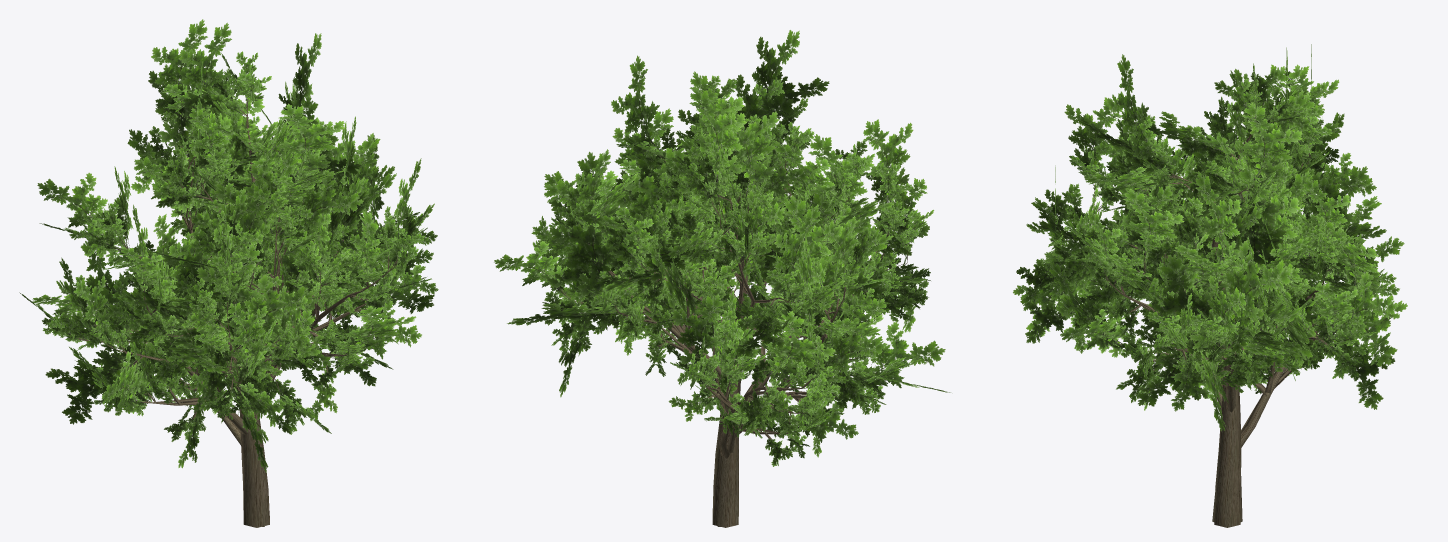
File: tree_maple_green.glb
3 views of the same model, side by side, from view 1: azimuth 30°, elevation 25°; view 2: azimuth 150°, elevation 25°; view 3: azimuth 270°, elevation 25° (orthographic).
Visible parts, largest first — view 1: LOD1_leaves, LOD0_leaves, LOD0_trunk, LOD1_trunk; view 2: LOD1_leaves, LOD0_leaves, LOD0_trunk, LOD1_trunk; view 3: LOD1_leaves, LOD0_leaves, LOD0_trunk, LOD1_trunk.
Boxes of the visible parts, left/top/right/bottom form: LOD1_leaves: left=19, top=19, right=434, bottom=473; LOD0_leaves: left=42, top=64, right=438, bottom=441; LOD0_trunk: left=78, top=97, right=397, bottom=527; LOD1_trunk: left=79, top=101, right=397, bottom=526; LOD1_leaves: left=494, top=30, right=950, bottom=464; LOD0_leaves: left=527, top=78, right=930, bottom=466; LOD0_trunk: left=559, top=152, right=907, bottom=527; LOD1_trunk: left=561, top=155, right=907, bottom=526; LOD1_leaves: left=1013, top=44, right=1407, bottom=431; LOD0_leaves: left=1040, top=70, right=1399, bottom=402; LOD0_trunk: left=1085, top=115, right=1357, bottom=527; LOD1_trunk: left=1094, top=120, right=1330, bottom=521.
Bounding box in the file's own units: 12.1 × 13.39 × 11.44.
Materials: 2 (2 with a texture image).
